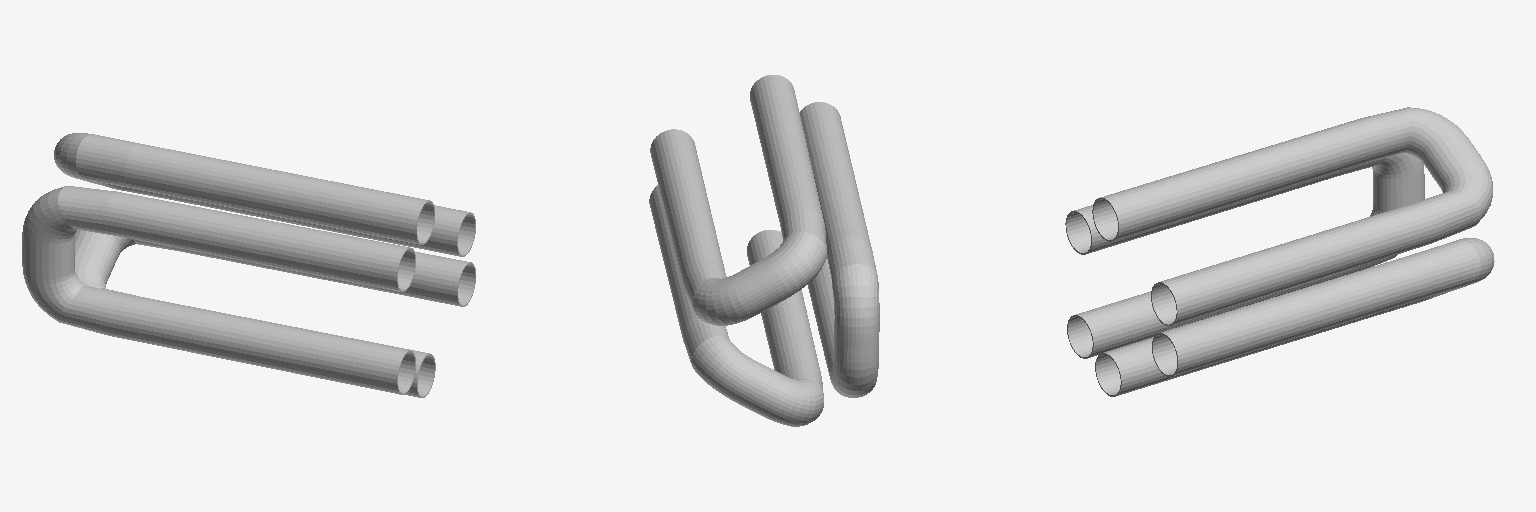
File: scissor.obj
3 views of the same model, side by side, from view 1: azimuth 30°, elevation 25°; view 2: azimuth 150°, elevation 25°; view 3: azimuth 270°, elevation 25° (orthographic).
Parts seen in each view (by area): view 1: polySurface1; view 2: polySurface1; view 3: polySurface1.
Part boxes in pixels (x1,y1,x2,y2): polySurface1: (22,133,475,397); polySurface1: (649,75,879,426); polySurface1: (1065,107,1494,396).
Bounding box in the file's own units: 0.7191 × 0.3994 × 0.7886.